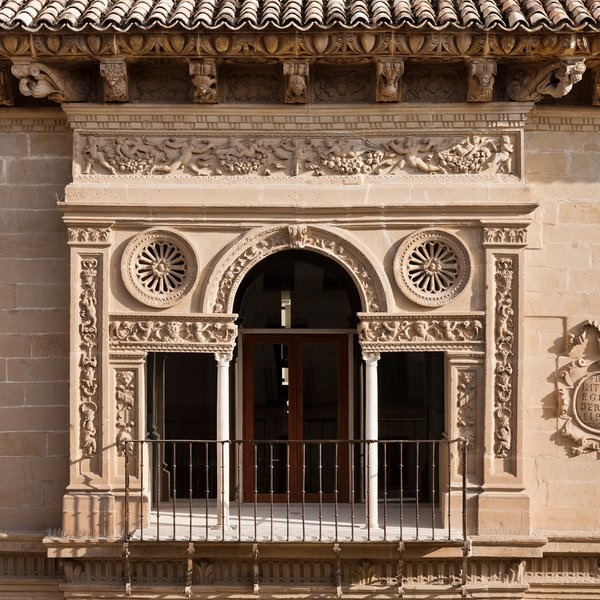serliana: (104, 219, 477, 549)
